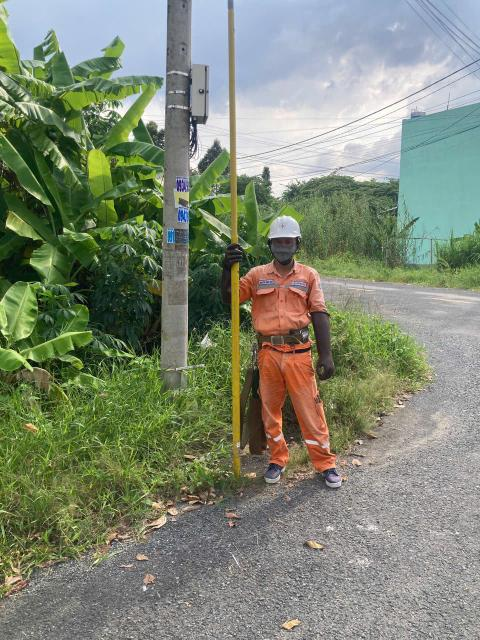gloves: (298, 296, 343, 384), (214, 236, 246, 308)
helmet: (251, 212, 308, 246)
shoes: (316, 460, 348, 500), (251, 462, 288, 495)
